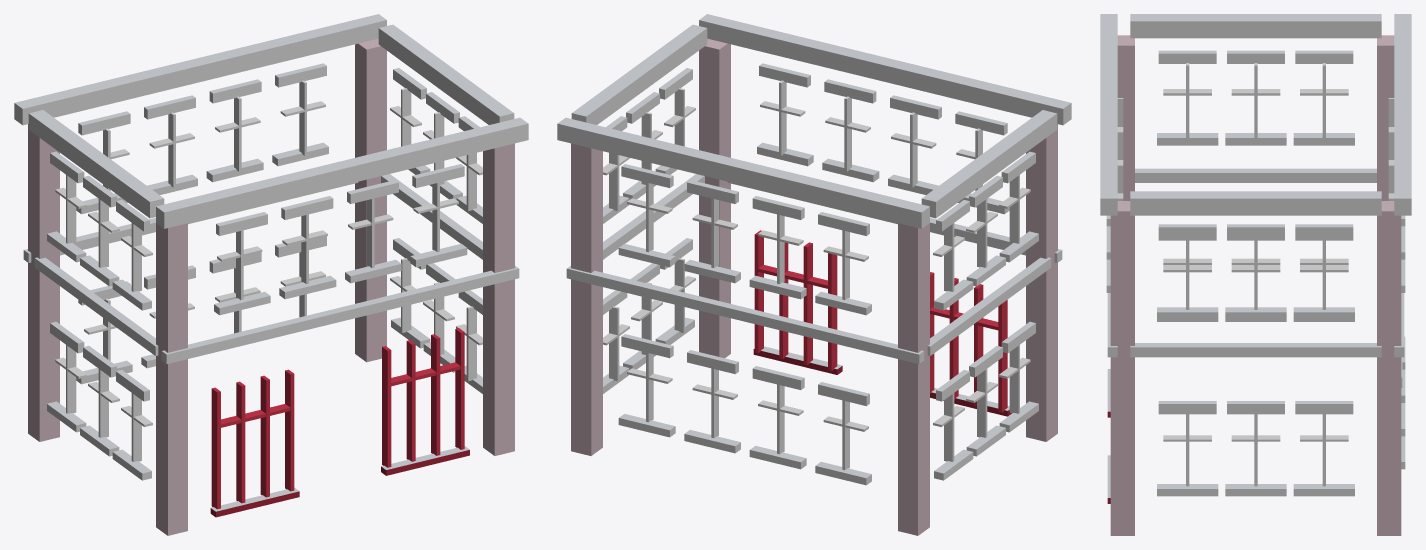
File: Shop_Candy_Trim.glb
The picture shows the model from 3 angles, left to right: view 1: azimuth 30°, elevation 25°; view 2: azimuth 150°, elevation 25°; view 3: azimuth 270°, elevation 25°; orthographic projection. The views are drawn at different scales.
Parts seen in each view (by area): view 1: Shop_Candy_Trim; view 2: Shop_Candy_Trim; view 3: Shop_Candy_Trim.
Part boxes in pixels (x1=…): Shop_Candy_Trim: x1=14, y1=14, x2=528, y2=535; Shop_Candy_Trim: x1=557, y1=14, x2=1071, y2=535; Shop_Candy_Trim: x1=1100, y1=14, x2=1411, y2=535.
Size of the model in its own units: 27.8 by 24 by 19.8.
